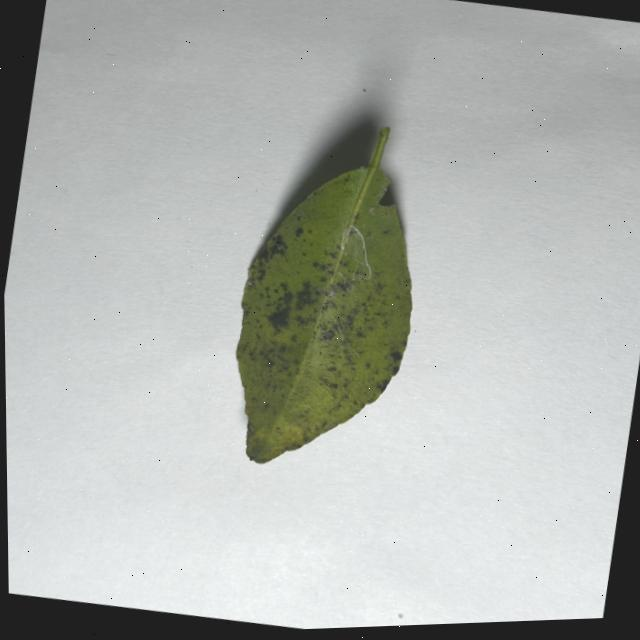sooty_mold: (237, 130, 411, 463)
